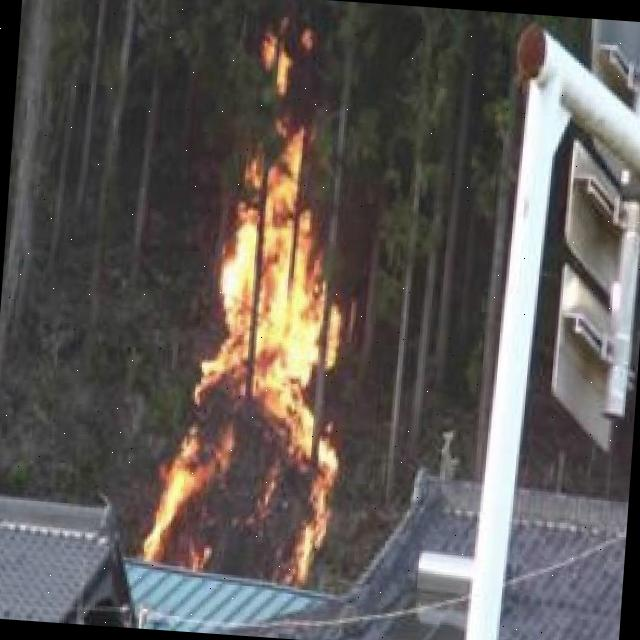fire: (136, 124, 370, 586)
